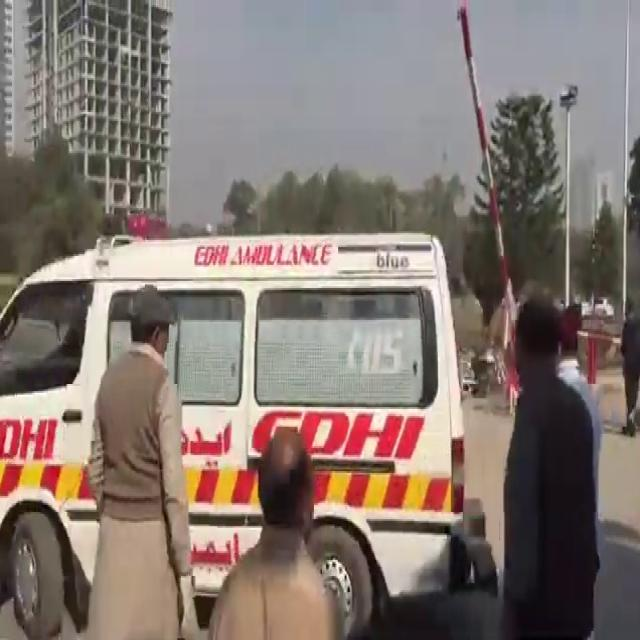ambulance: (0, 232, 451, 594)
